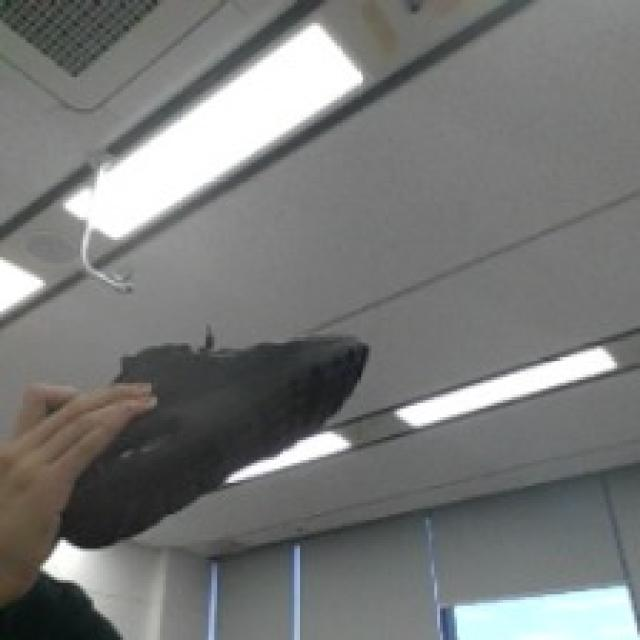shoe: (42, 303, 420, 561)
